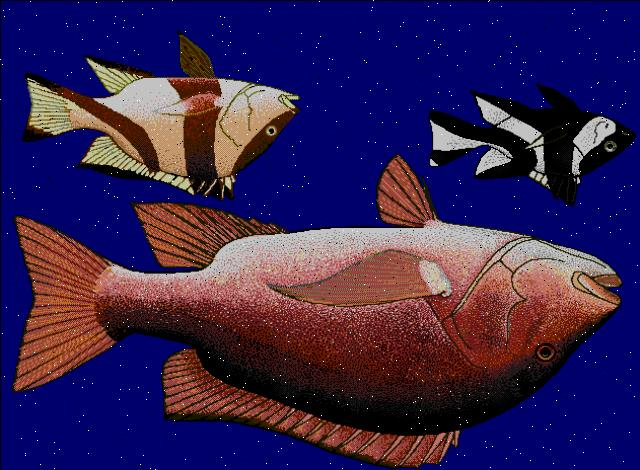Mulut: (565, 240, 637, 326), (270, 79, 312, 125), (616, 114, 638, 149)
Sirip Anal: (122, 196, 294, 272), (75, 46, 152, 96), (458, 82, 530, 132)
Sirip Dada: (248, 238, 472, 322), (148, 82, 235, 125), (514, 114, 578, 152)
Sirip Ekor: (4, 204, 126, 402), (16, 60, 78, 152), (412, 101, 472, 179)
Sirip Perut: (364, 146, 444, 238), (162, 19, 226, 89), (528, 73, 588, 121)
Sirip Punggung: (137, 334, 475, 470), (74, 128, 238, 204), (468, 139, 588, 208)
